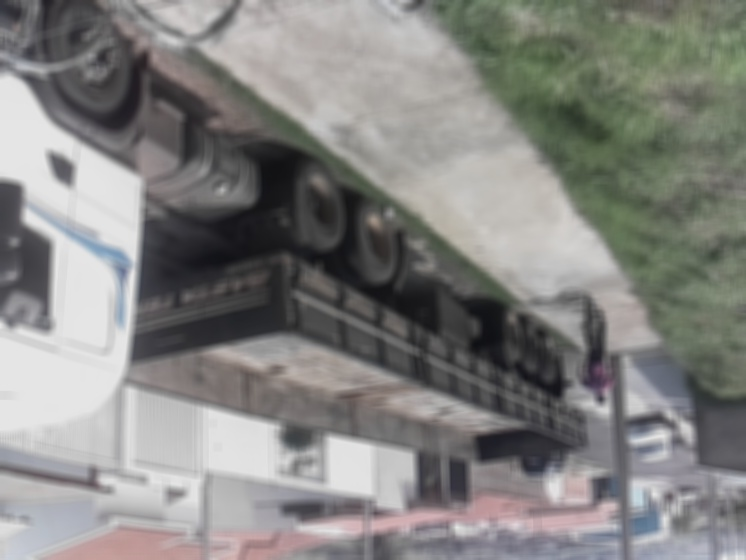person: (574, 311, 620, 406)
